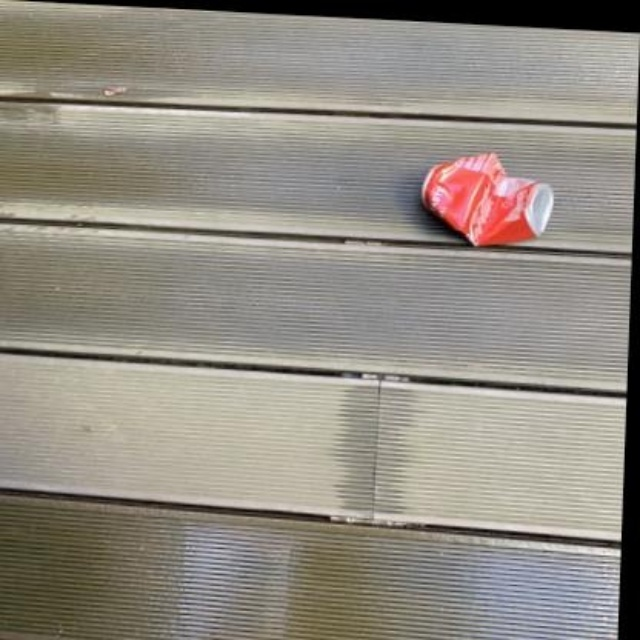trash: (422, 154, 552, 245)
